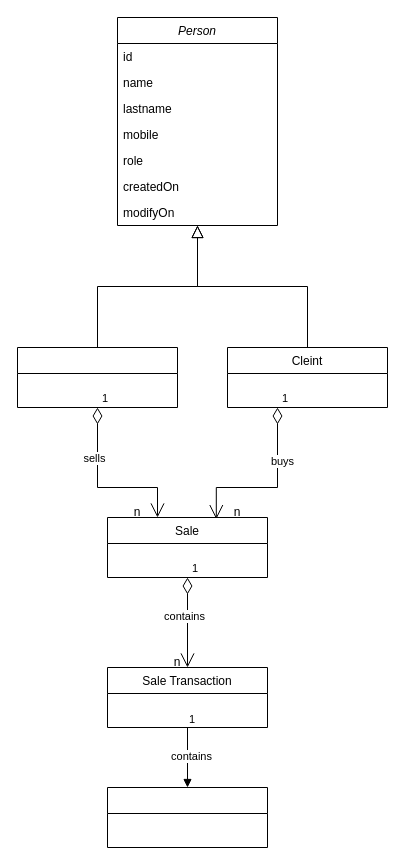
Some shapes in this 405 by 865 pixel diagram are drawn without their labels. The box of each missing label's shape, as (x1, y1, x2, y2) in pixels:
Product: (106, 786, 268, 848)
Seller: (16, 346, 178, 408)
